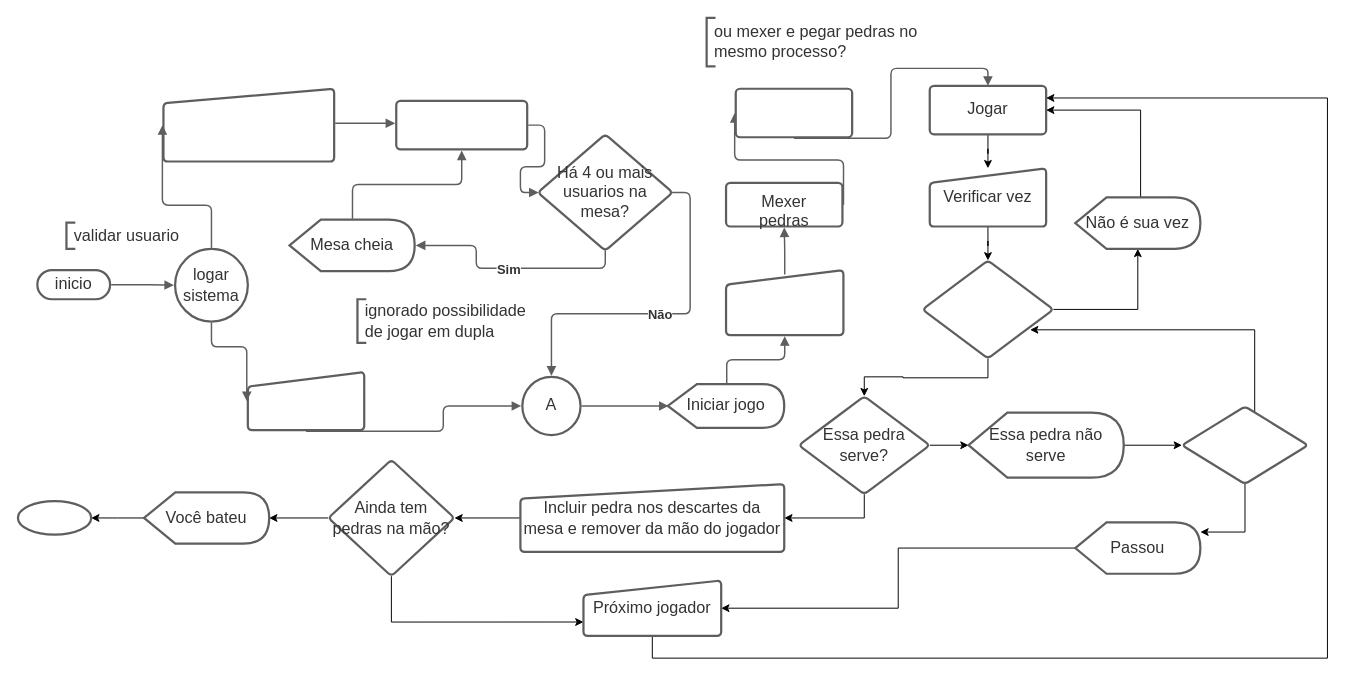
This 1352x683 diagram has some shape labels left out. Here are the shapes that lost their labels. From the top down, the box of each, then its label:
(162, 87, 335, 162): Instanciar jogadores com parametro nome
(395, 99, 528, 150): Entrar na mesa
(734, 87, 853, 138): Pegar pedras
(724, 269, 844, 336): Instanciar jogo e criar dominó
(921, 259, 1054, 359): É a sua vez?
(246, 370, 365, 431): Instanciar mesa
(1180, 405, 1309, 485): Tem outra?
(16, 500, 92, 535): Fim
